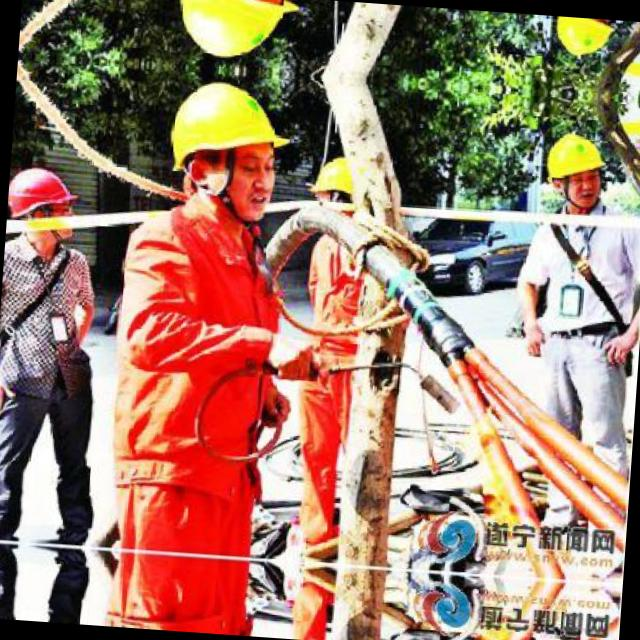helmet: (157, 66, 286, 228), (166, 0, 291, 72), (537, 121, 615, 212), (6, 162, 78, 238), (546, 15, 623, 66), (309, 152, 359, 218)
